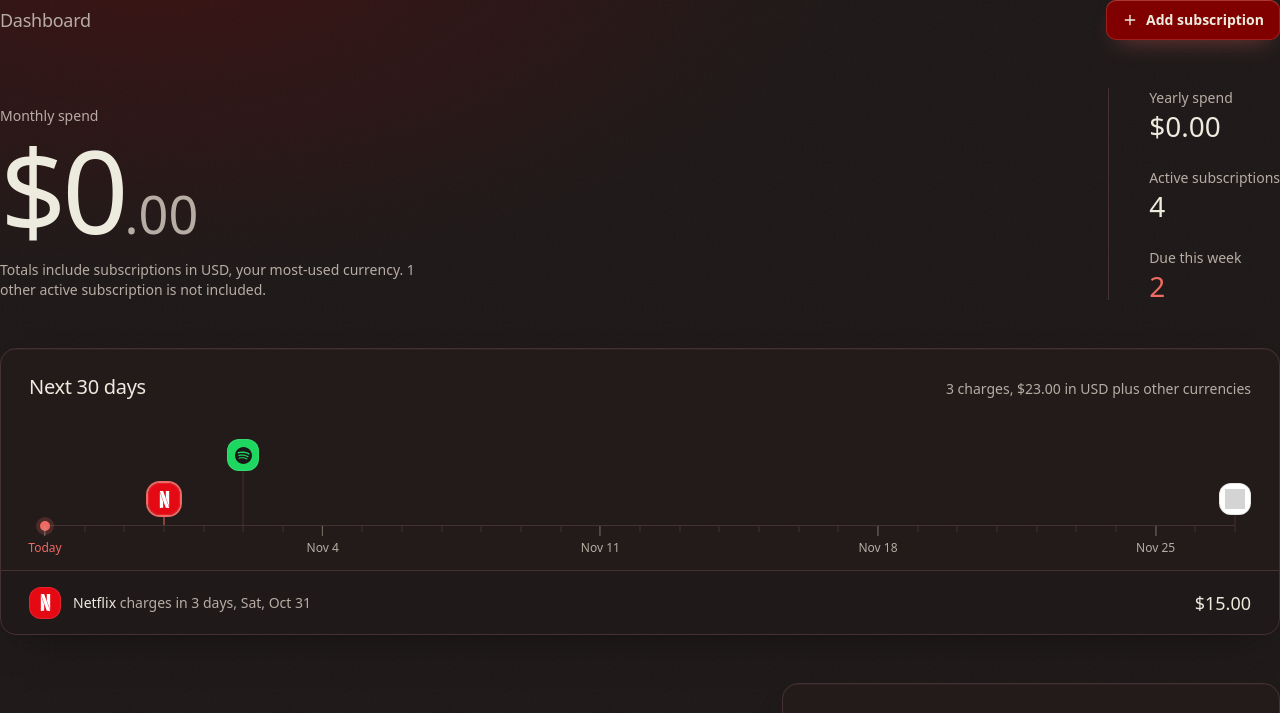
it: Dashboard › starts new subscriptions in the default currency (INR)
Expected: the heading "Dashboard" is shown, [0,6,91,34]
Click the button "Add subscription" at (1193, 20), box [1106,0,1279,40]
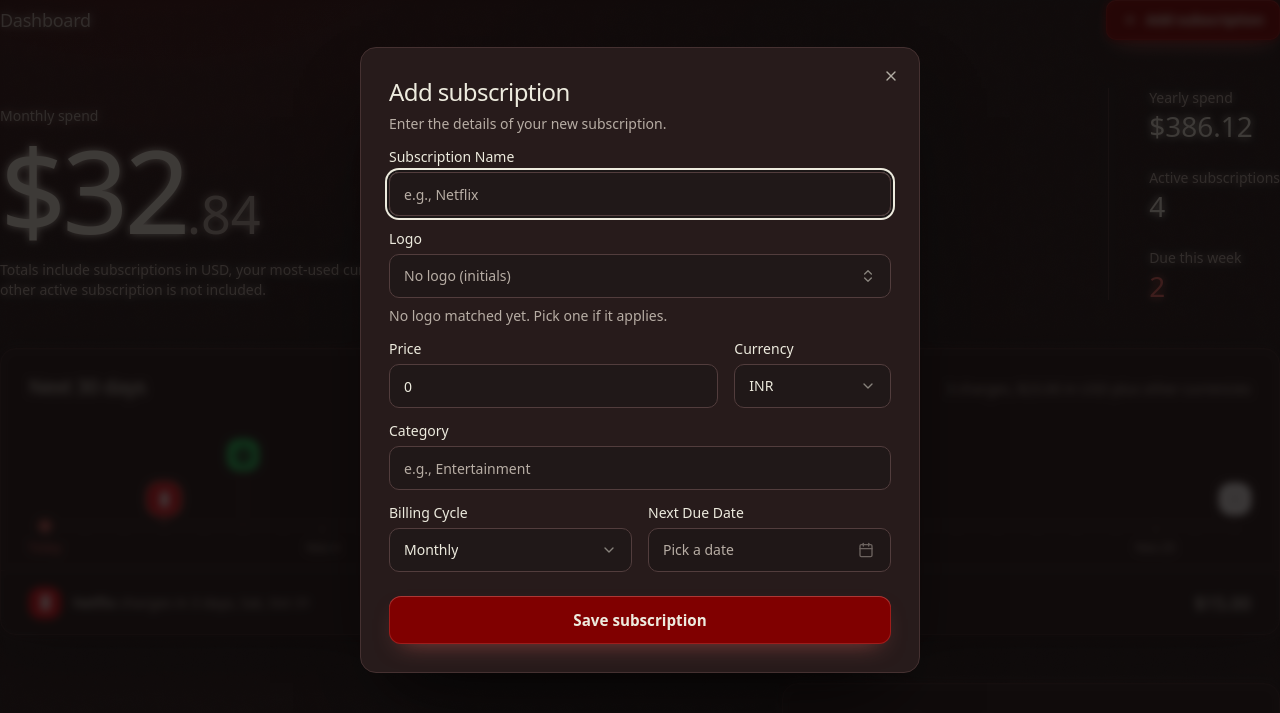
Expected: the dropdown named "Currency" reads "INR", [734,364,891,408]
